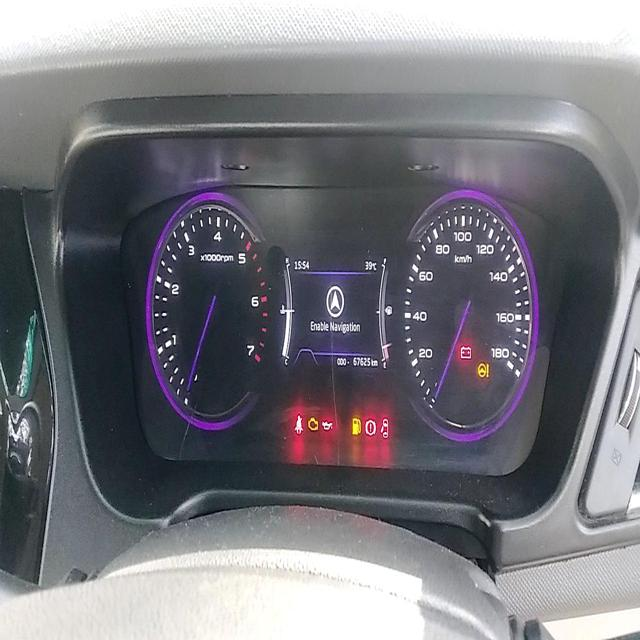odometer: (352, 354, 371, 369)
